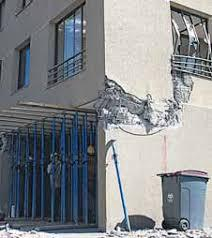spalling: (93, 70, 194, 133)
